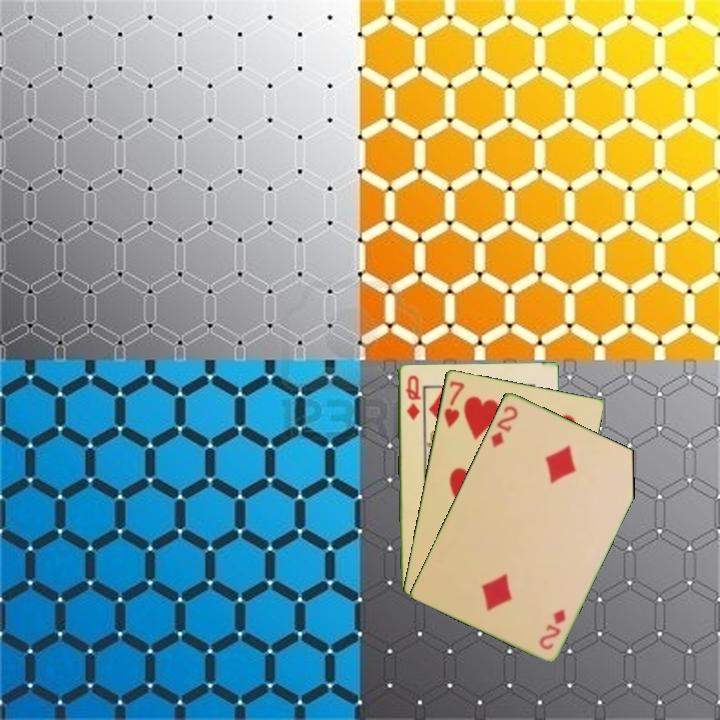2d: (487, 402, 521, 450), (535, 605, 569, 652)
7h: (440, 377, 467, 430)
Qd: (402, 371, 423, 423)
